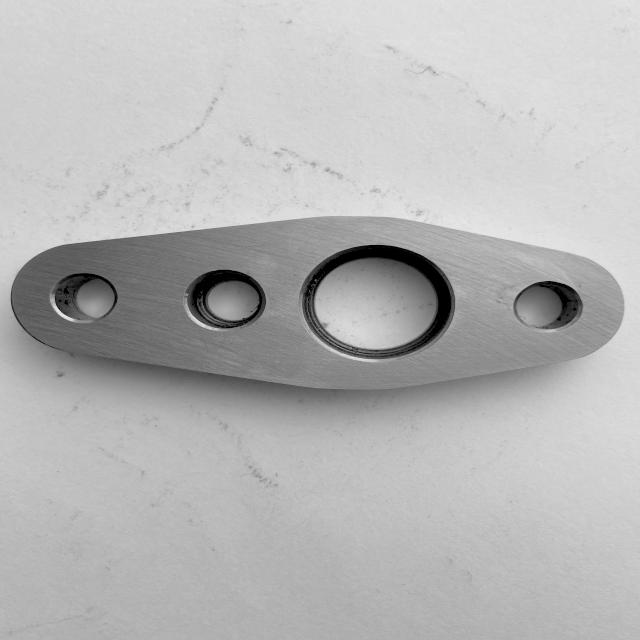lines: (491, 279, 518, 308)
